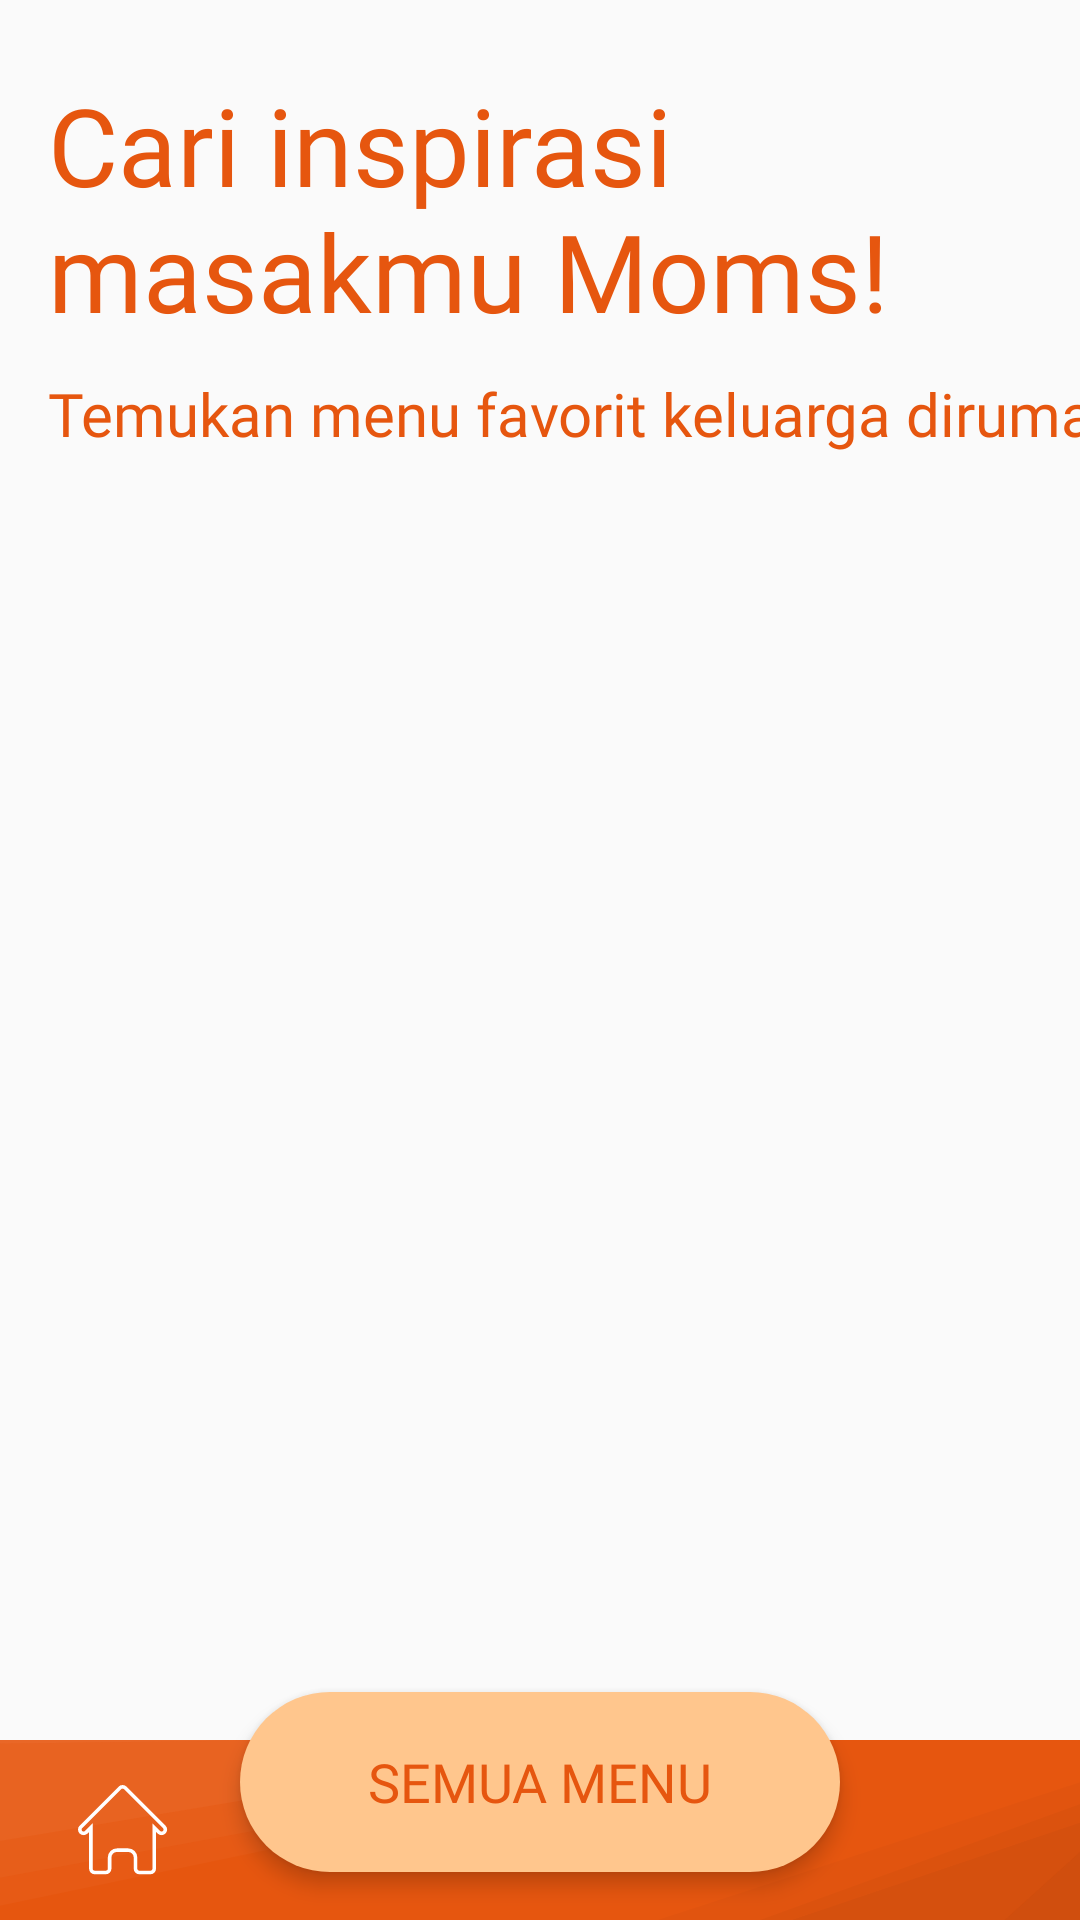

Where to tap for icons on this 1080w x 1920h app screen, as (x=x, y=y):
home: (x=122, y=1830)
